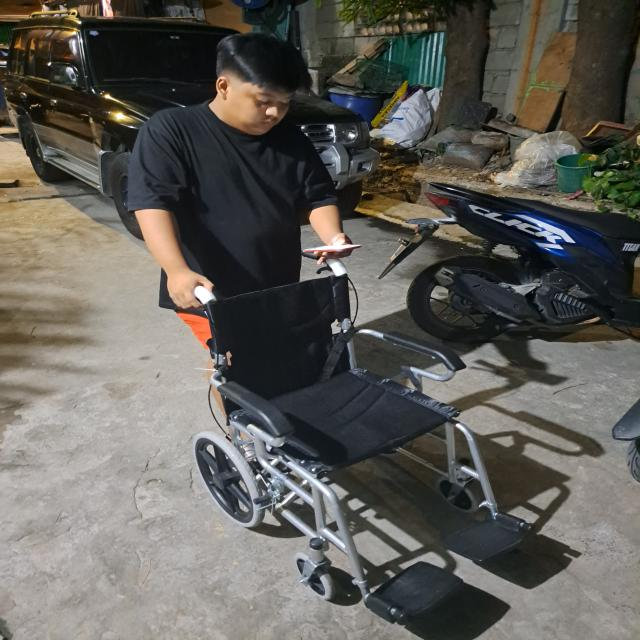wheelchairs: (187, 263, 544, 630)
